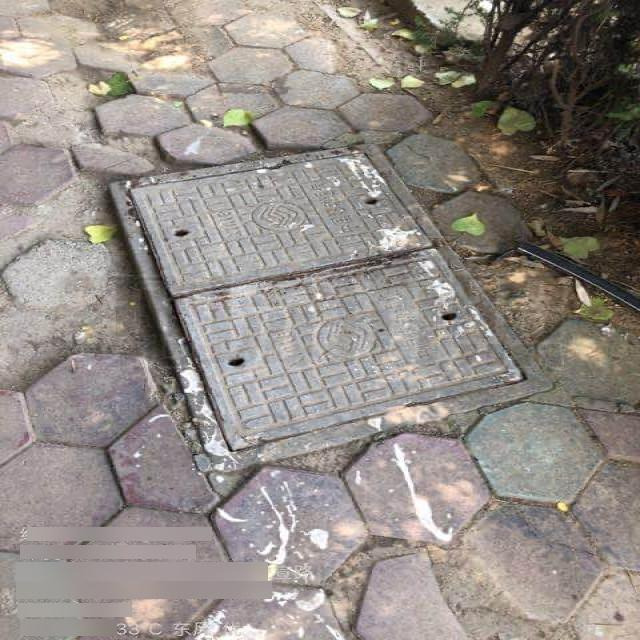Good: (111, 141, 554, 470)
